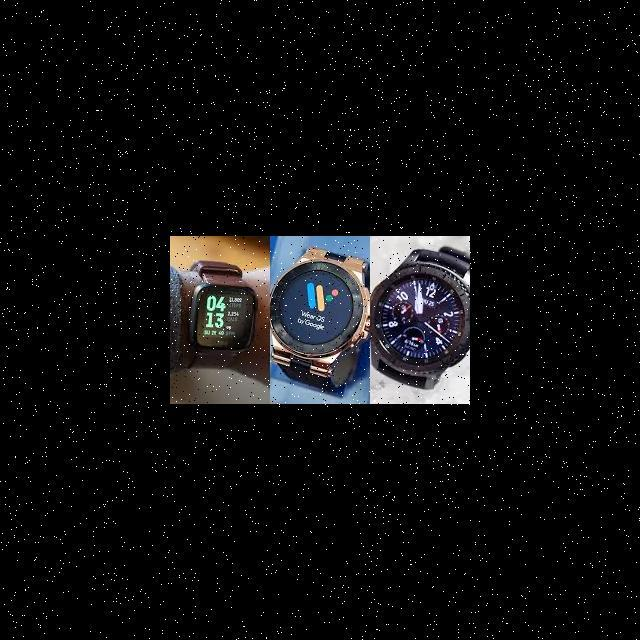watch: (378, 242, 470, 393), (280, 244, 365, 394), (190, 243, 255, 370)
